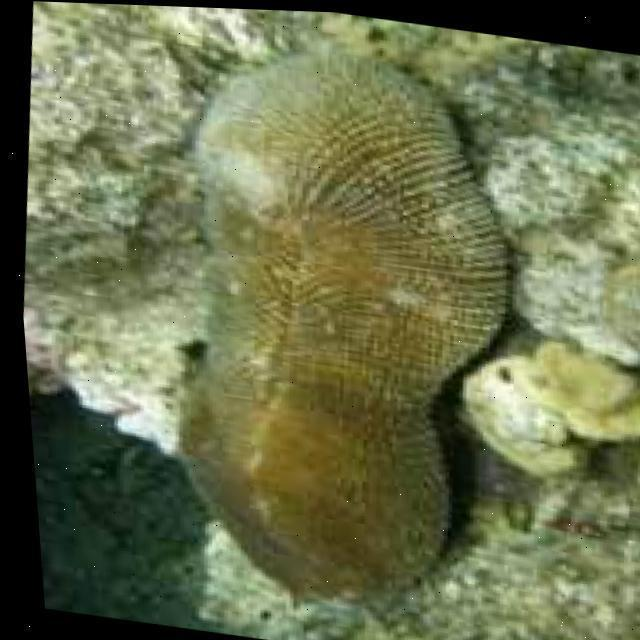Healthy Coral: (126, 17, 556, 624)
